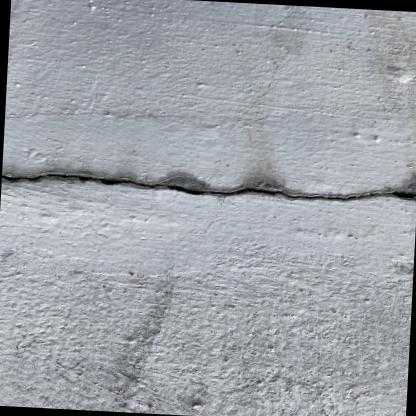crack: (1, 172, 416, 201)
